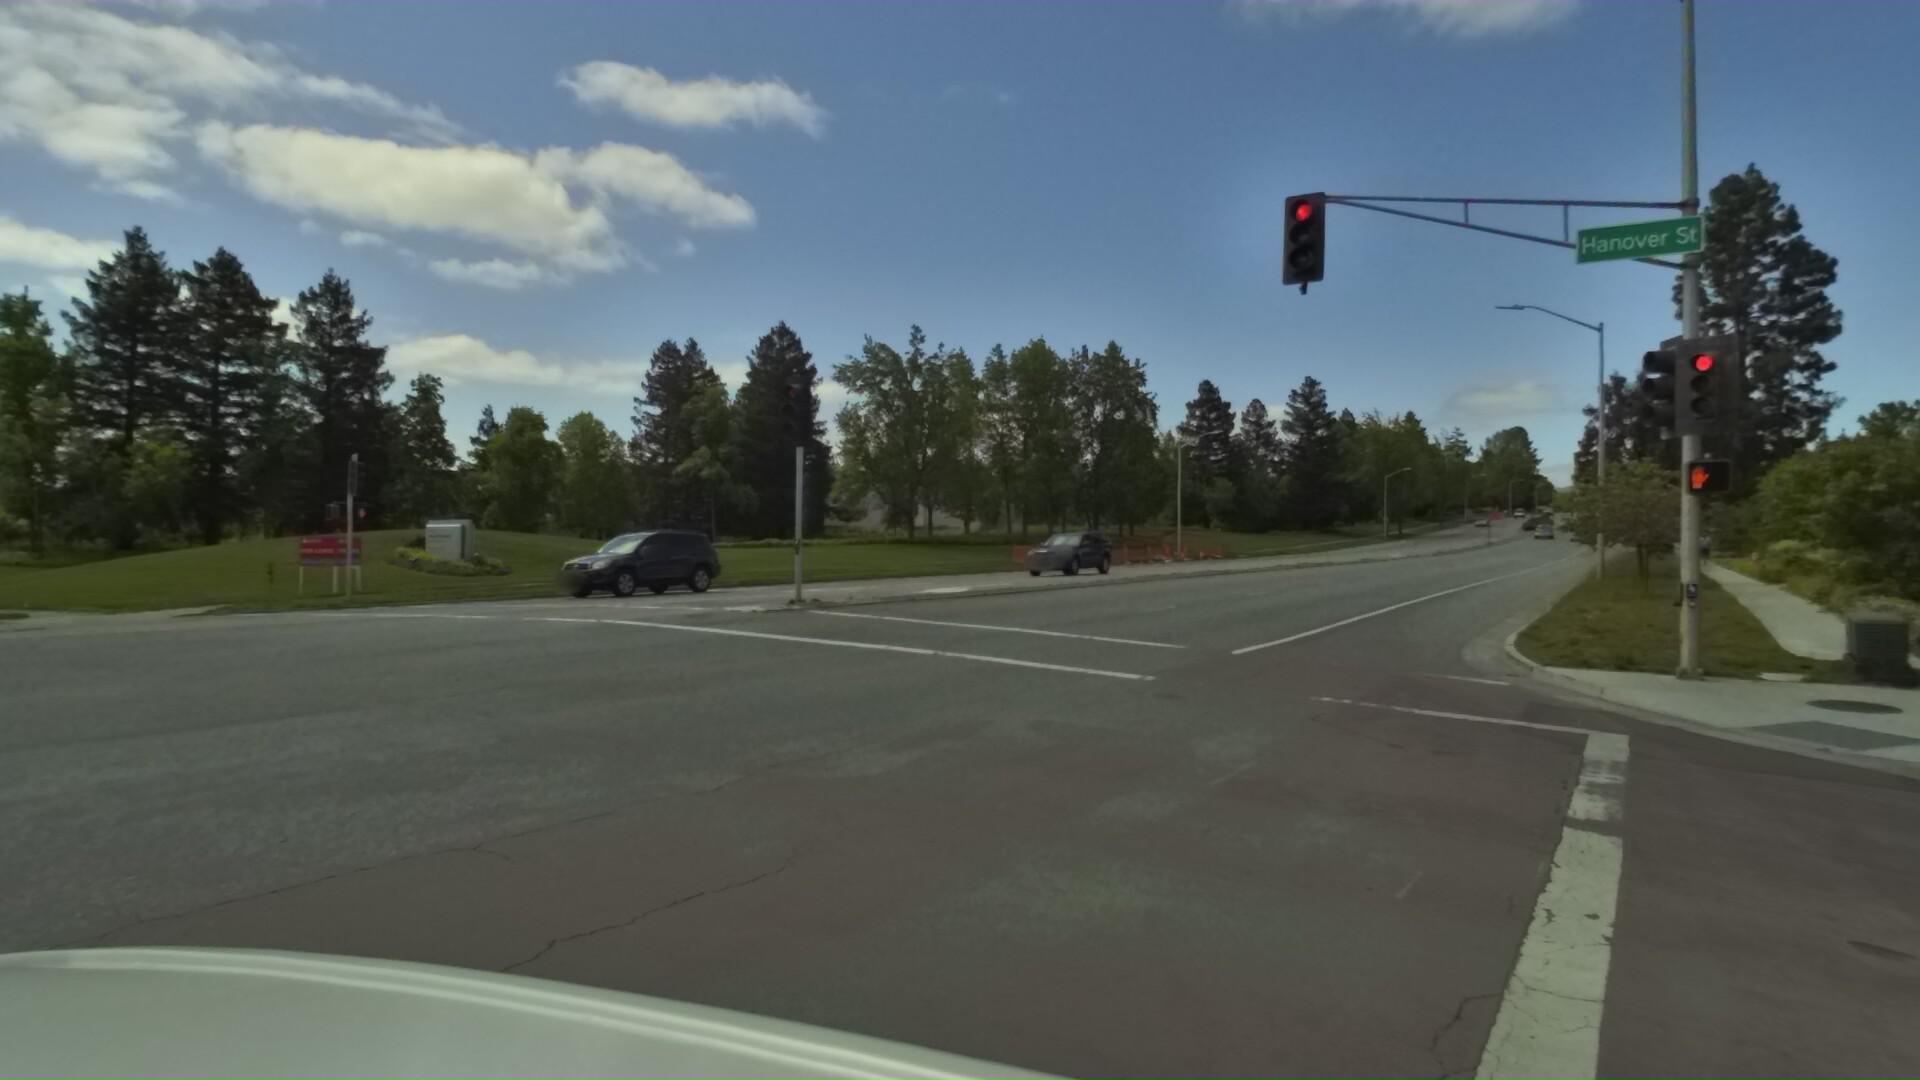car: (533, 529, 717, 601), (997, 527, 1104, 571)
